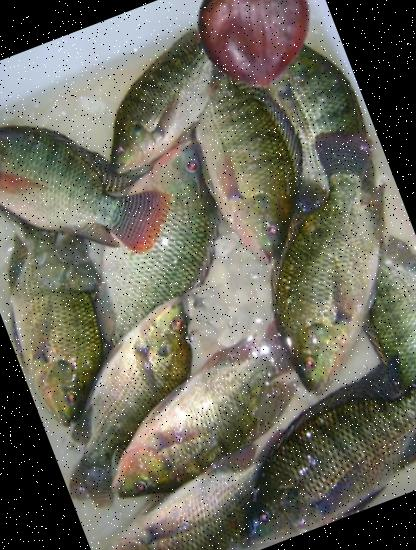Chestnut: (177, 0, 328, 106)
